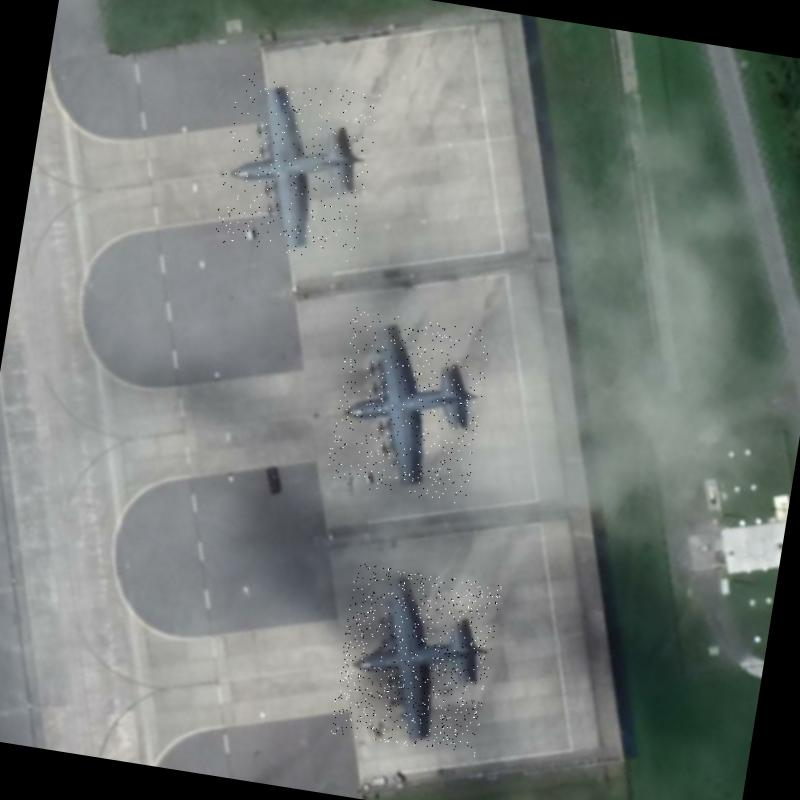A2: (324, 306, 493, 504), (329, 562, 501, 756), (212, 71, 380, 265)
